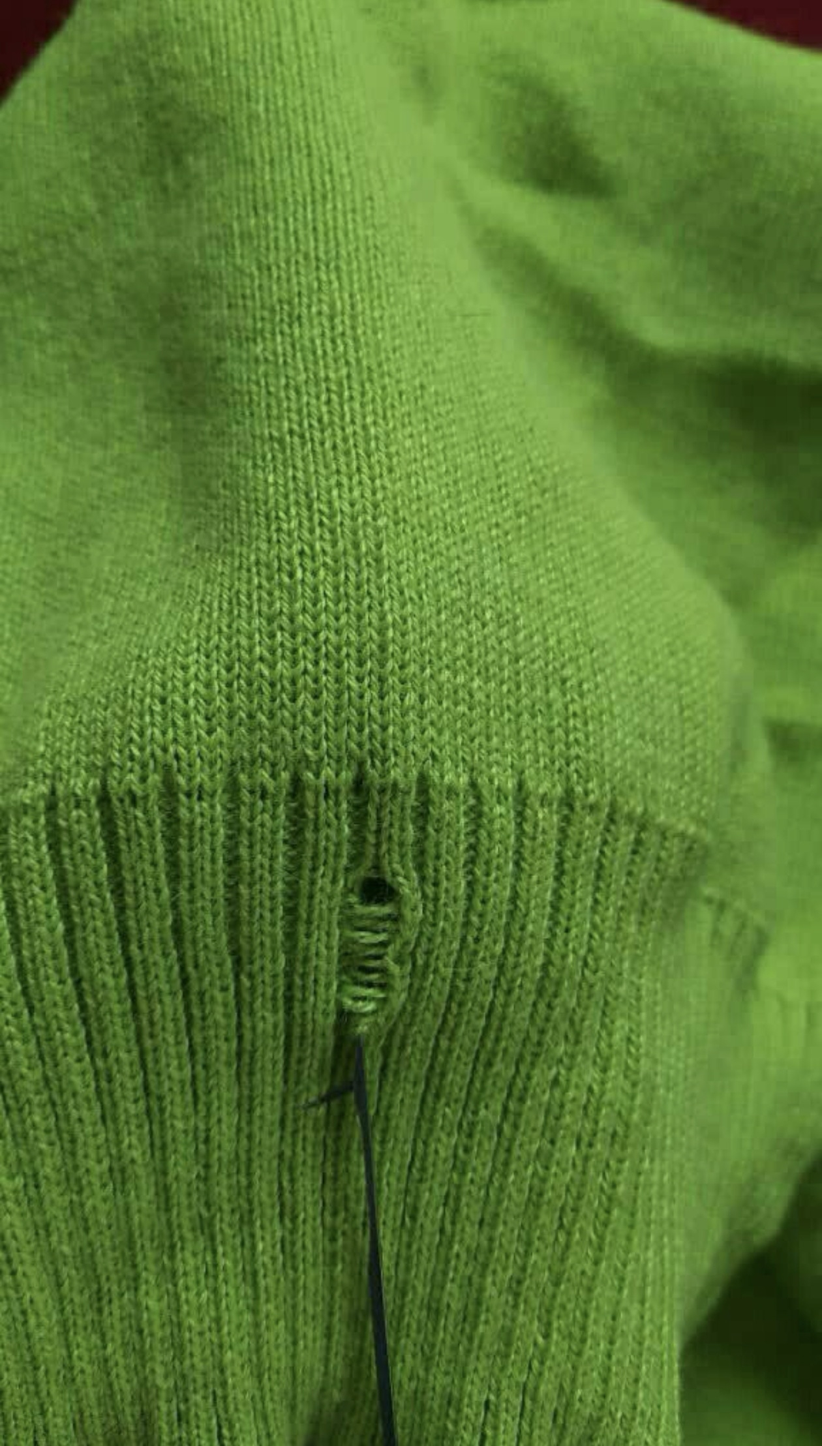missing_stitch_1: (337, 864, 412, 1042)
